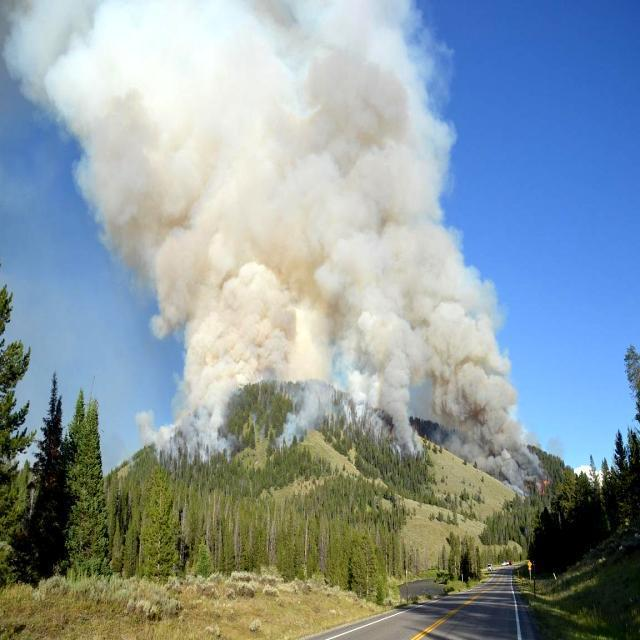Smoke: (23, 0, 521, 463)
